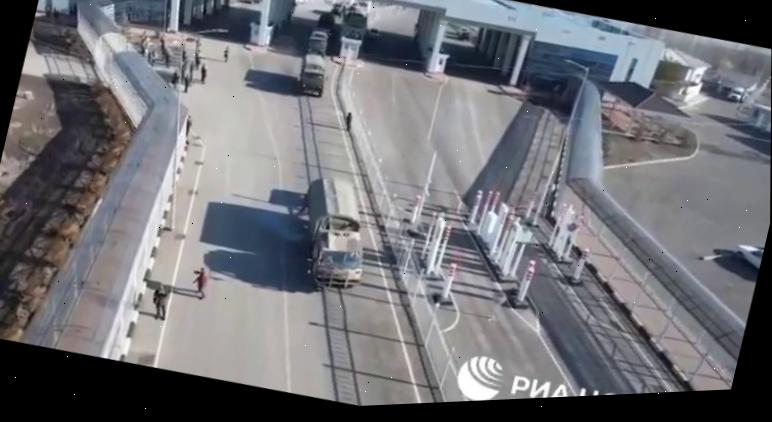car: (730, 240, 764, 281)
person: (147, 282, 173, 323), (189, 265, 211, 302), (197, 63, 212, 84), (182, 114, 195, 138), (343, 110, 355, 132), (181, 73, 193, 94), (220, 45, 233, 64)
truck: (285, 170, 384, 298), (295, 52, 330, 98), (305, 24, 332, 59)
